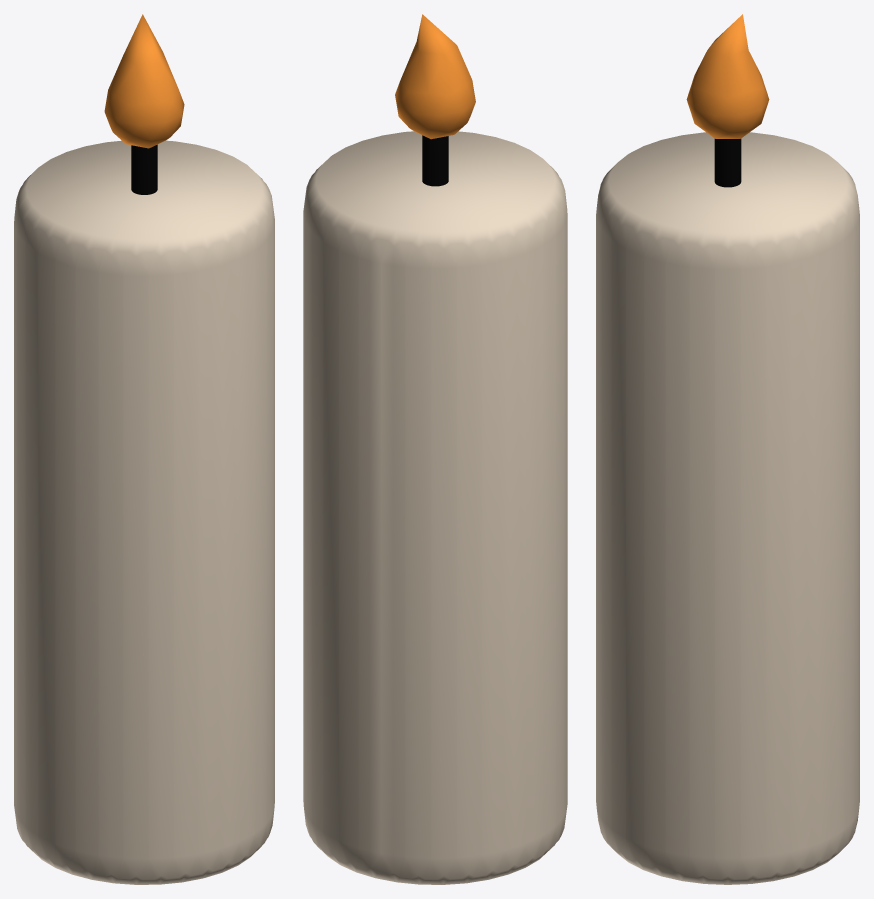
The model's file is Candle.fbx.
The picture shows the model from 3 angles, left to right: view 1: azimuth 30°, elevation 25°; view 2: azimuth 150°, elevation 25°; view 3: azimuth 270°, elevation 25°; orthographic projection.
Visible parts, largest first — view 1: Цилиндр, Икосфера, Цилиндр.001; view 2: Цилиндр, Икосфера, Цилиндр.001; view 3: Цилиндр, Икосфера, Цилиндр.001.
Part boxes in pixels (bbox=[...]): Цилиндр: bbox=[14, 140, 274, 884]; Икосфера: bbox=[104, 14, 184, 148]; Цилиндр.001: bbox=[131, 144, 157, 194]; Цилиндр: bbox=[303, 131, 567, 884]; Икосфера: bbox=[395, 14, 475, 139]; Цилиндр.001: bbox=[422, 135, 448, 186]; Цилиндр: bbox=[596, 132, 859, 884]; Икосфера: bbox=[686, 14, 769, 138]; Цилиндр.001: bbox=[714, 139, 741, 187].
Bounding box in the file's own units: 88.46 × 305 × 88.46.
